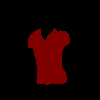polo: (28, 28, 70, 84)
